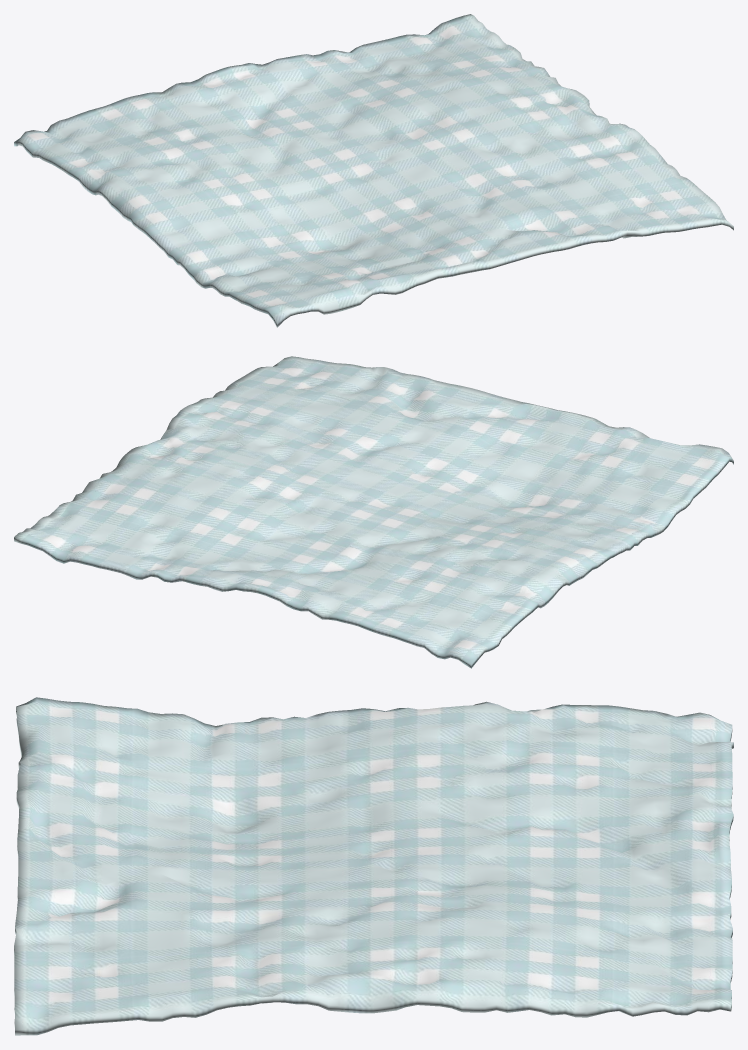
The model's file is blanket.gltf.
3 renders of one model, top to bottom at view 1: azimuth 30°, elevation 25°; view 2: azimuth 150°, elevation 25°; view 3: azimuth 270°, elevation 25°, orthographic. The views are drawn at different scales.
Visible parts, largest first — view 1: Plane; view 2: Plane; view 3: Plane.
Part boxes in pixels (left/top/right/bottom): Plane: left=14, top=14, right=733, bottom=327; Plane: left=14, top=356, right=733, bottom=668; Plane: left=14, top=697, right=733, bottom=1035.
Bounding box in the file's own units: 10.23 × 0.7881 × 10.19.
1 material, 1 textured.
